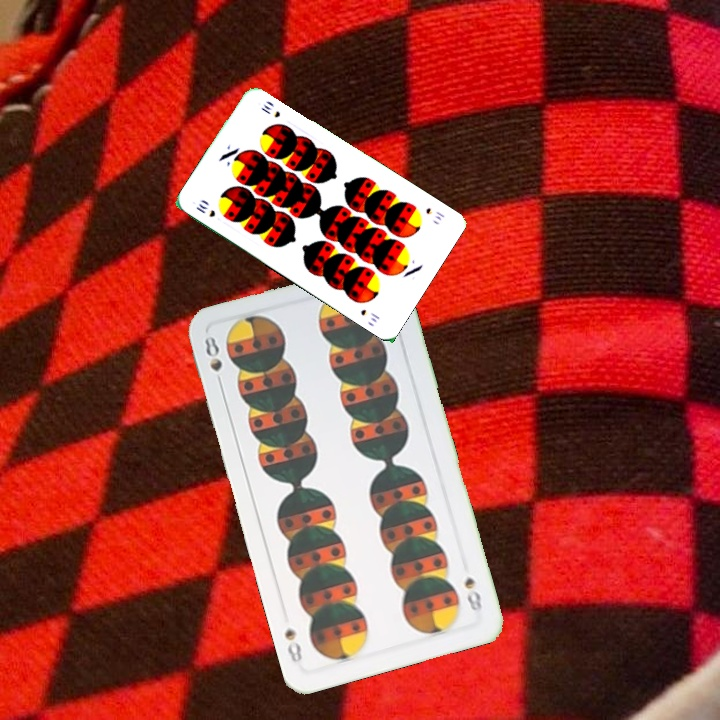S10: (192, 199, 218, 220), (422, 203, 447, 223)
S8: (200, 331, 226, 390), (460, 572, 485, 617)
